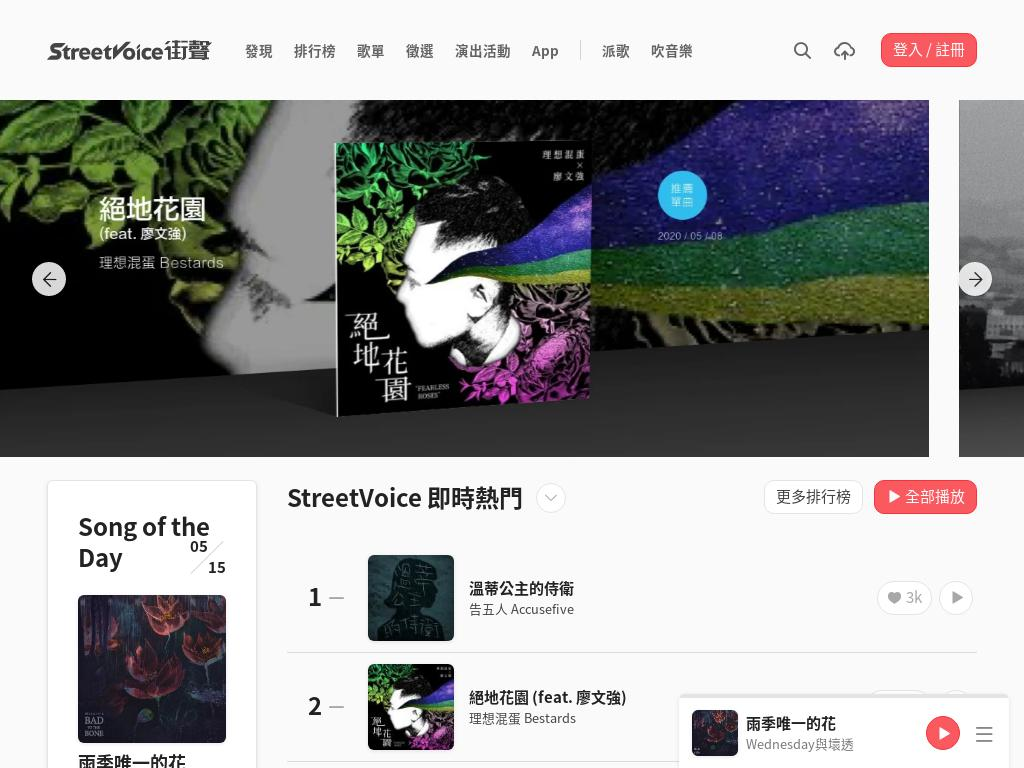button: (136, 100, 1024, 458), (0, 100, 107, 458), (873, 479, 977, 514), (763, 479, 864, 514), (47, 40, 212, 60), (880, 33, 977, 67), (444, 31, 522, 69), (283, 31, 347, 69), (640, 31, 704, 69), (865, 690, 932, 725), (877, 580, 932, 615), (234, 31, 284, 69), (346, 31, 396, 69), (395, 31, 445, 69), (591, 31, 641, 69), (521, 31, 570, 69), (368, 554, 369, 555), (368, 664, 369, 665)
heading: (78, 507, 210, 575), (287, 482, 523, 514), (469, 686, 628, 709), (469, 576, 575, 599), (78, 748, 186, 768), (469, 708, 577, 728), (469, 598, 575, 618), (745, 734, 854, 753), (745, 712, 836, 734), (535, 483, 566, 514), (307, 577, 322, 614), (307, 687, 322, 724), (190, 538, 208, 554), (208, 559, 226, 575)
image: (136, 100, 1024, 458), (0, 100, 107, 458), (78, 595, 226, 743), (368, 554, 455, 641), (368, 664, 455, 751), (692, 710, 738, 756), (680, 694, 1008, 698), (926, 716, 958, 748)
text: (781, 32, 824, 68), (904, 484, 965, 507), (893, 699, 922, 715), (905, 590, 922, 606)
